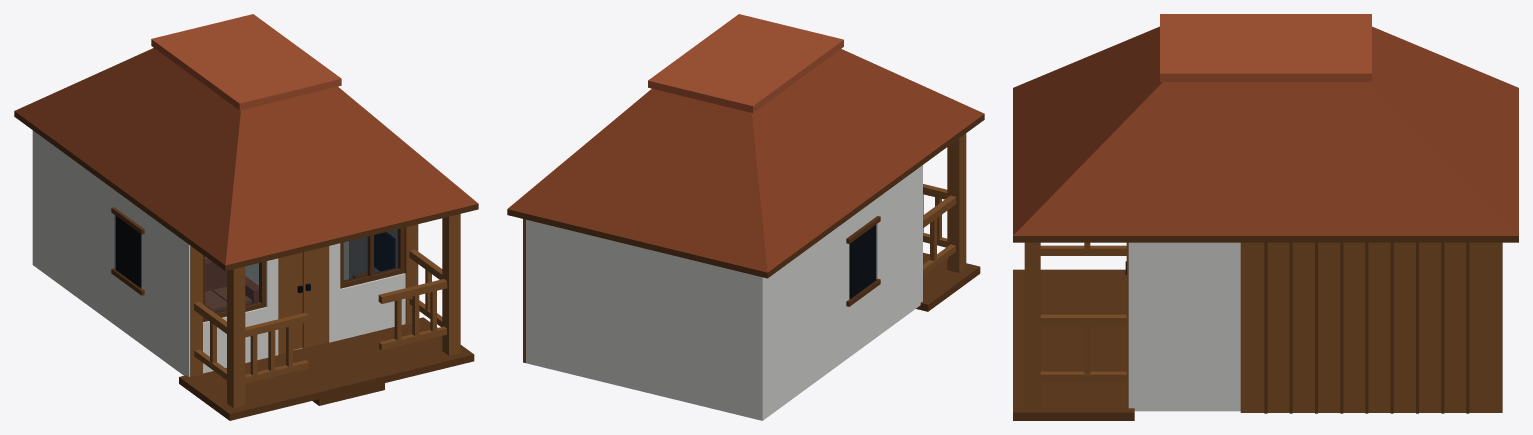
Rendered from rumah-tipe4.glb.
3 renders of one model, left to right at view 1: azimuth 30°, elevation 25°; view 2: azimuth 150°, elevation 25°; view 3: azimuth 270°, elevation 25°, orthographic. The views are drawn at different scales.
Visible parts, largest first — view 1: Roof, Body_Back, TerraceFloor, RoofCap, Body_SideL, Body_SillWR, EaveSlab, Post_F0, Post_F1, Door_LeafR, WR_Glass, Door_LeafL (+18 smaller); view 2: Roof, Body_Back, RoofCap, Body_SideL, EaveSlab, Post_F0, SideWin_Glass, TerraceFloor, SideWin_Backing, RailL_Top; view 3: Roof, SideCladding, Body_SideR, RoofCap, TerraceFloor, EaveSlab, Post_F1, Body_FR, RailR_Top, RailL_Bot, RailR_Bot, CladPlank_0 (+9 smaller).
Part boxes in pixels (box(x1,y1,x2,y2)): Roof: box(15, 48, 478, 265); Body_Back: box(32, 130, 131, 336); TerraceFloor: box(179, 317, 474, 420); RoofCap: box(151, 14, 341, 110); Body_SideL: box(131, 203, 186, 375); Body_SillWR: box(340, 273, 405, 339); EaveSlab: box(14, 111, 478, 270); Post_F0: box(227, 266, 245, 408); Post_F1: box(442, 214, 460, 355); Door_LeafR: box(303, 246, 328, 348); WR_Glass: box(343, 229, 399, 282); Door_LeafL: box(278, 252, 302, 354); Roof: box(507, 49, 984, 272); Body_Back: box(526, 208, 864, 420); RoofCap: box(648, 14, 843, 113); Body_SideL: box(864, 167, 920, 345); EaveSlab: box(507, 114, 984, 278); Post_F0: box(947, 133, 966, 272); SideWin_Glass: box(849, 224, 877, 299); TerraceFloor: box(916, 252, 980, 311); SideWin_Backing: box(849, 225, 875, 298); RailL_Top: box(923, 195, 956, 227); Roof: box(1013, 26, 1518, 235); SideCladding: box(1240, 242, 1502, 412); Body_SideR: box(1134, 242, 1240, 411); RoofCap: box(1160, 14, 1371, 81); TerraceFloor: box(1013, 269, 1134, 420); EaveSlab: box(1013, 236, 1518, 242); Post_F1: box(1024, 242, 1040, 407); Body_FR: box(1128, 242, 1134, 408); RailR_Top: box(1040, 314, 1126, 326); RailL_Bot: box(1040, 245, 1126, 255); RailR_Bot: box(1040, 371, 1126, 381); CladPlank_0: box(1264, 242, 1267, 413).
Bounding box in the file's own units: 0.694 × 0.686 × 1.
